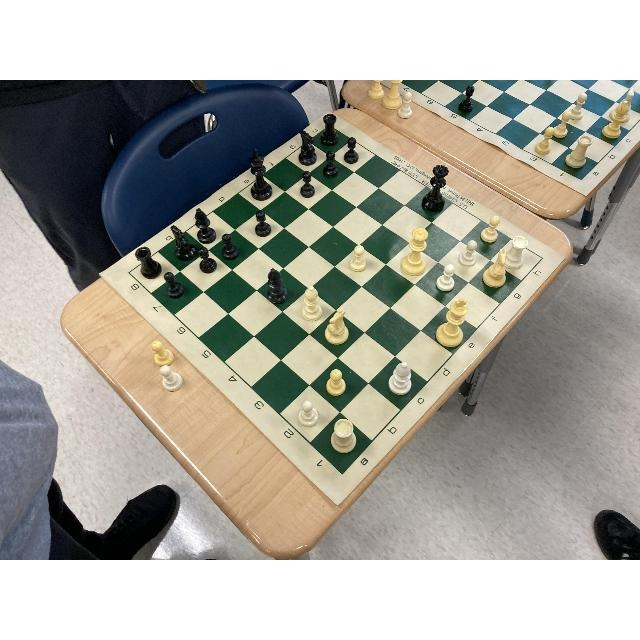black-bishop: (265, 268, 291, 306), (193, 207, 216, 243)
black-king: (249, 155, 272, 200)
black-knight: (170, 225, 199, 261), (298, 131, 318, 164)
black-pawn: (163, 272, 186, 300), (217, 232, 240, 259), (320, 150, 339, 179), (197, 249, 218, 273), (255, 211, 271, 236), (344, 137, 359, 163), (300, 172, 314, 197)
black-queen: (424, 164, 450, 214)
black-rook: (137, 245, 163, 280), (322, 114, 340, 144)
white-bishop: (300, 286, 323, 322), (389, 361, 412, 395)
white-king: (436, 298, 469, 347)
white-knight: (483, 248, 508, 287), (325, 306, 349, 345)
white-pawn: (299, 400, 321, 428), (325, 367, 346, 396), (436, 264, 456, 292), (348, 244, 367, 272), (459, 240, 477, 267), (482, 215, 500, 242)
white-queen: (399, 226, 428, 275)
white-rook: (331, 418, 357, 454), (504, 235, 528, 270)
